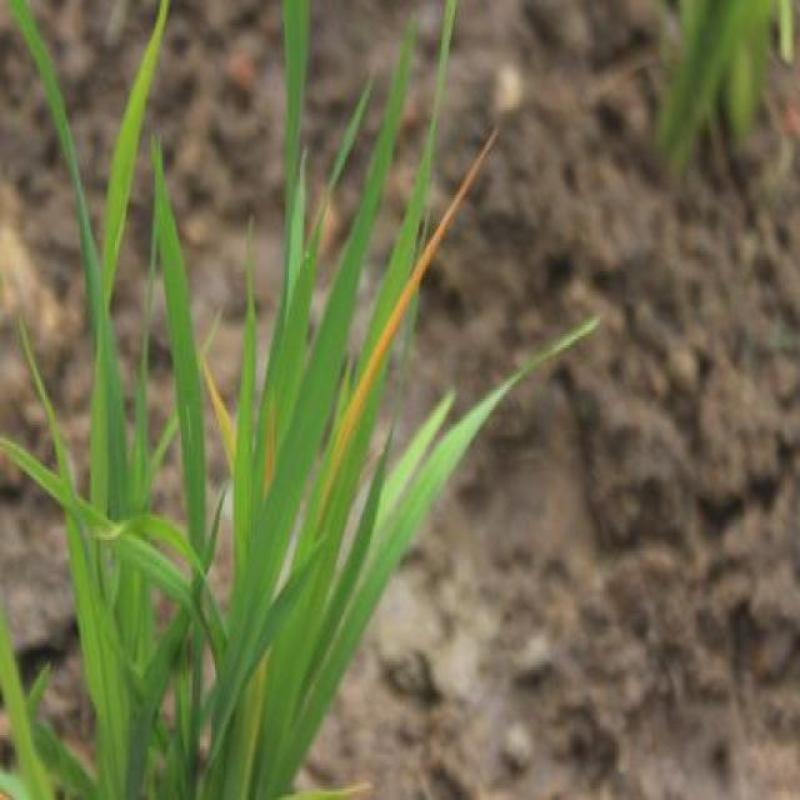Rice Tungro: (221, 135, 491, 696)
